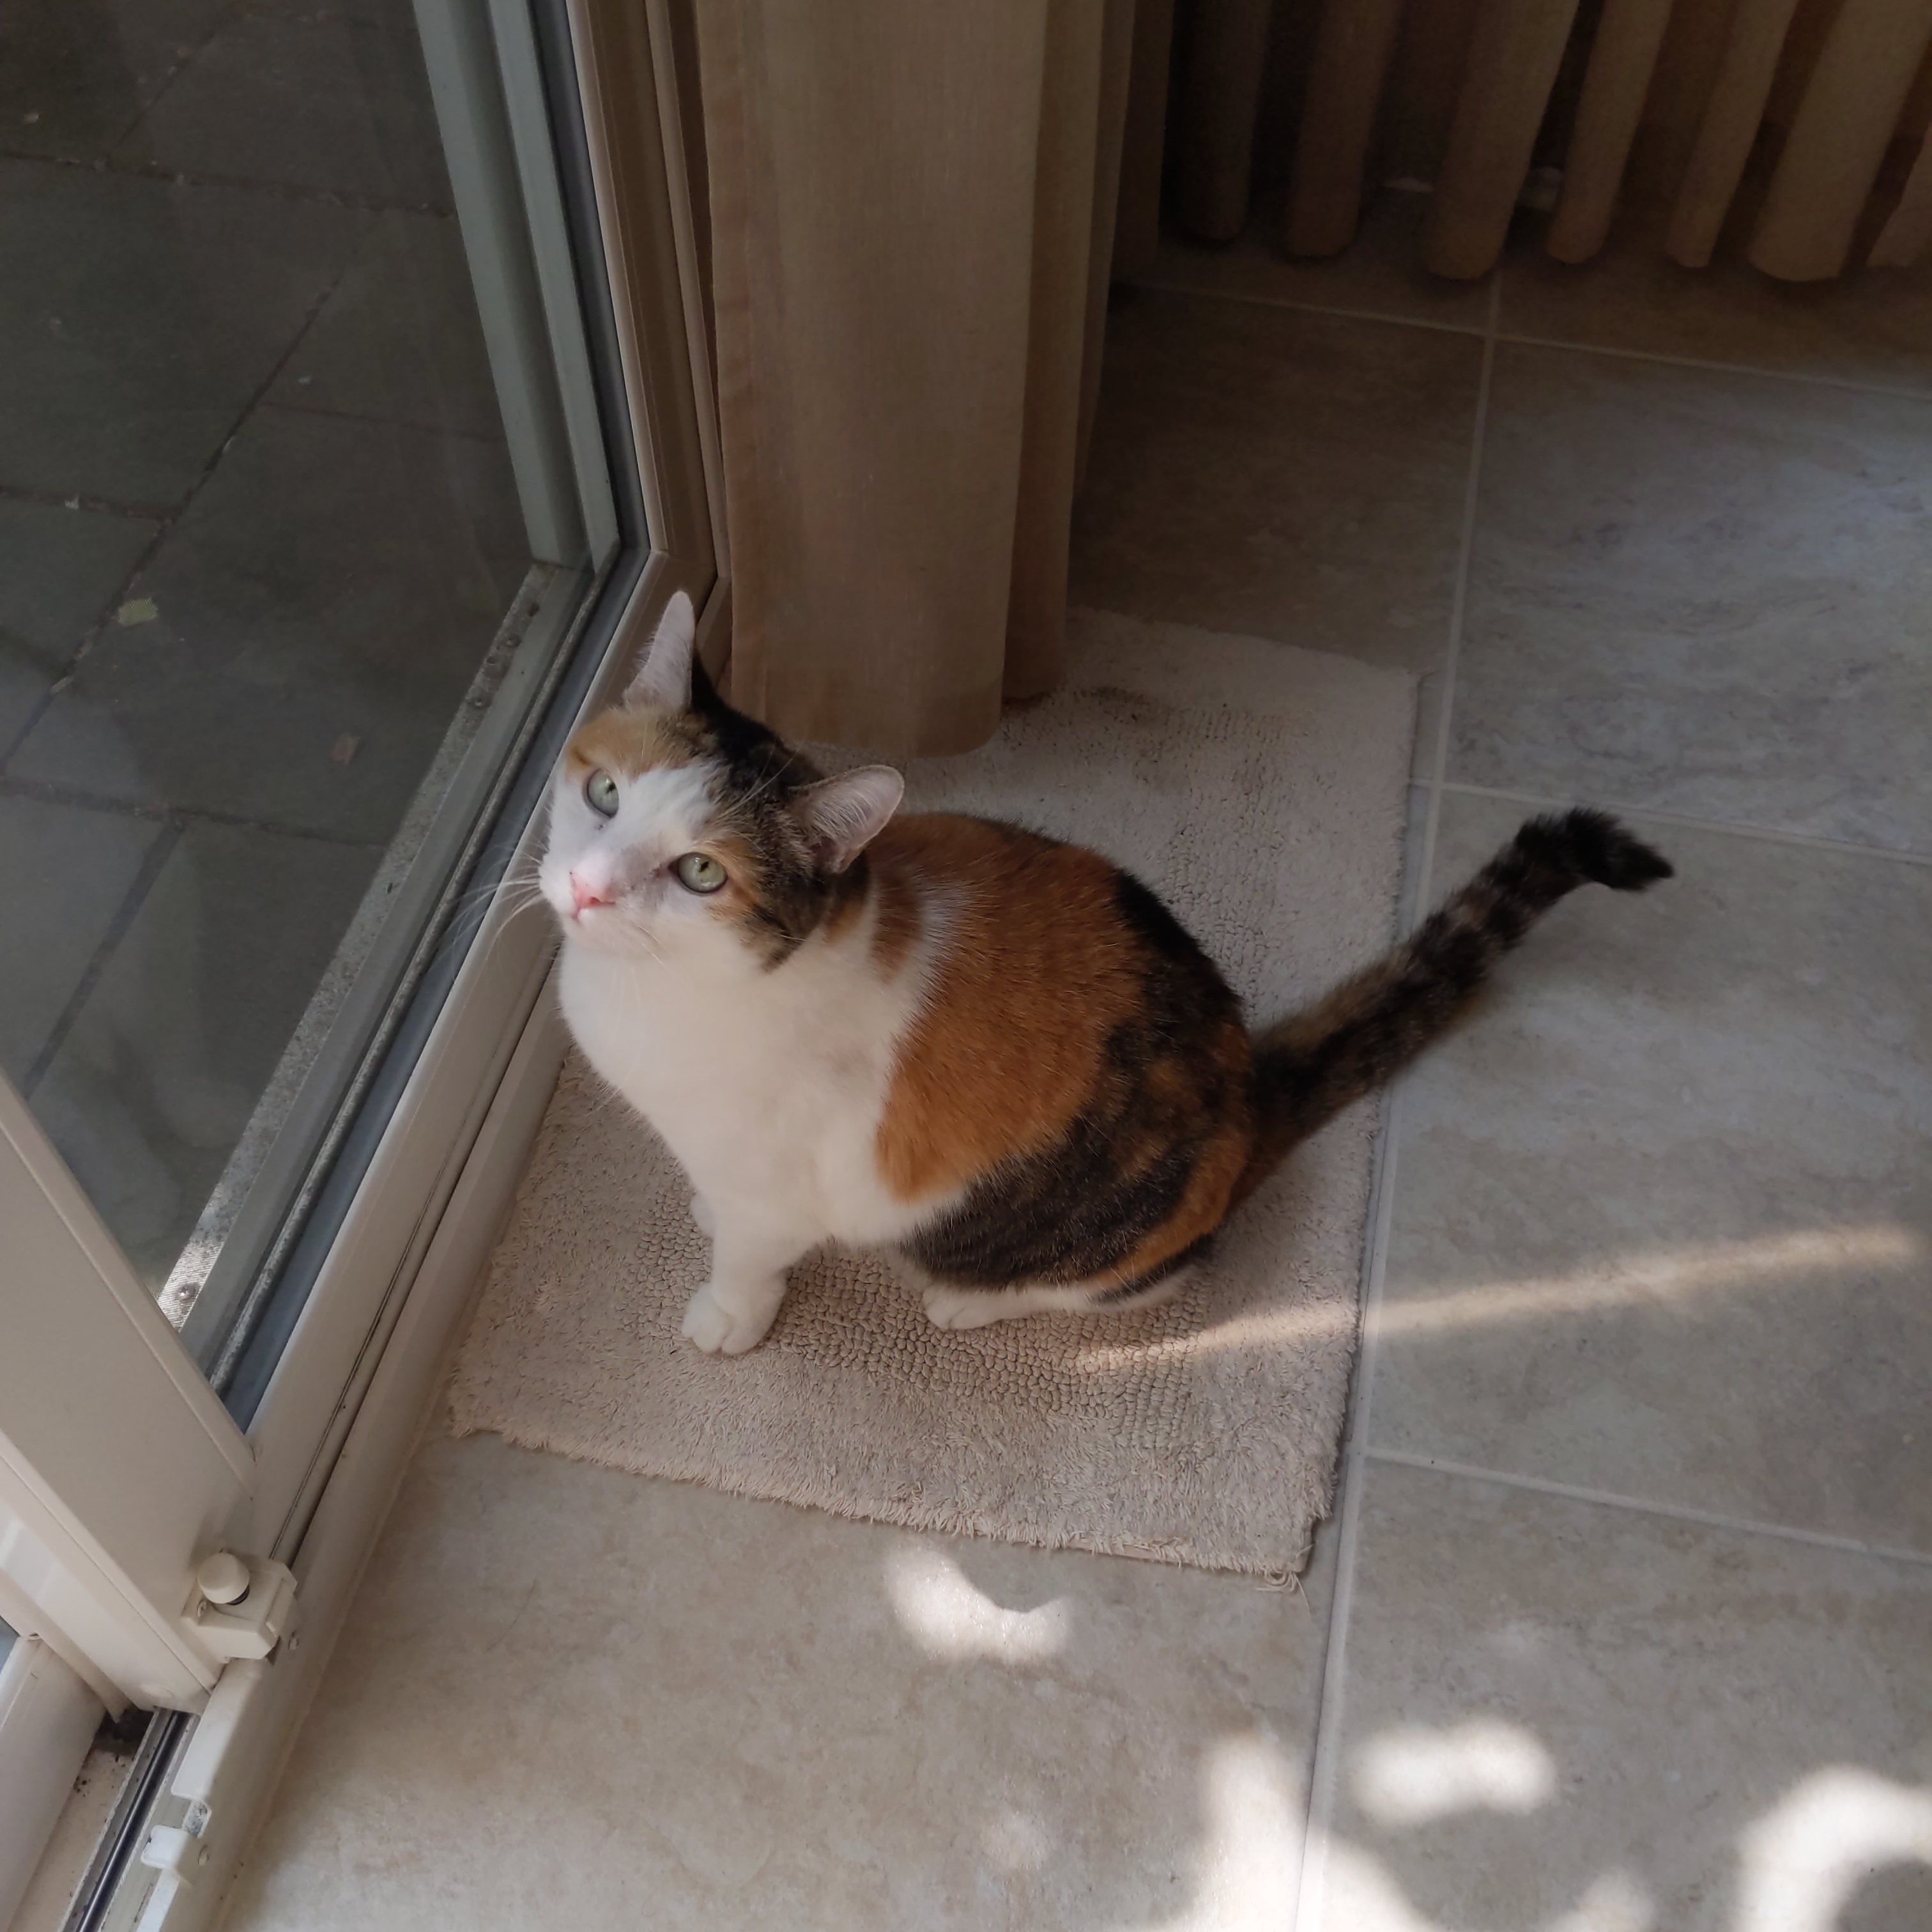Calico: (538, 591, 1679, 1357)
